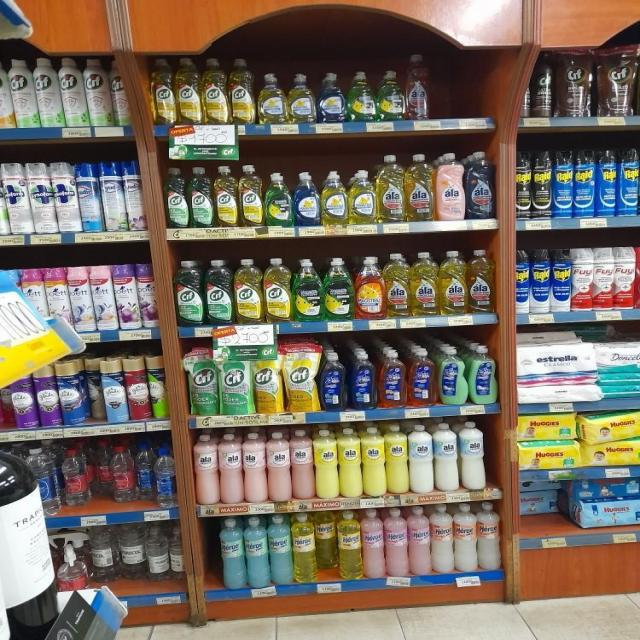ala_conc_amarillo: (406, 152, 434, 222), (376, 154, 404, 222), (411, 250, 438, 316), (468, 249, 495, 314), (440, 249, 466, 315), (385, 253, 409, 317)
ala_conc_azul: (466, 151, 496, 219)
ala_conc_rojo: (404, 53, 433, 120)
ala_crem_amarillo: (362, 426, 386, 498), (338, 427, 362, 498), (315, 429, 338, 499), (386, 424, 408, 494)
ala_crem_blanco: (459, 421, 487, 492), (434, 422, 459, 493), (409, 423, 433, 494)
ala_crem_rosado: (193, 432, 217, 506), (266, 430, 290, 502), (218, 433, 242, 504), (243, 431, 266, 504), (292, 429, 314, 500)
ala_ultra_rosa: (436, 151, 464, 221)
cif_conc_bot_amarilla: (264, 257, 292, 322), (235, 258, 262, 324), (229, 58, 256, 124), (202, 58, 228, 124), (150, 58, 175, 126), (176, 57, 201, 125), (239, 164, 263, 227), (214, 165, 238, 227)
cif_conc_botella_verde: (174, 260, 204, 326), (205, 258, 233, 324), (189, 166, 213, 228), (164, 167, 188, 228)
cif_conc_sachet_amarillo: (285, 342, 318, 412), (254, 344, 284, 414)
cif_conc_sachet_verde: (187, 346, 218, 416), (220, 347, 251, 415)
heroe: (219, 517, 244, 589), (292, 512, 316, 584), (338, 510, 362, 580), (477, 502, 501, 570), (408, 506, 431, 576), (385, 507, 408, 577), (246, 515, 268, 588), (270, 514, 292, 586), (431, 503, 453, 574), (362, 508, 384, 579), (454, 503, 476, 572), (316, 510, 337, 576)
magistral_con_amarillo: (348, 170, 376, 224), (258, 73, 286, 124), (321, 171, 347, 225), (288, 73, 316, 123)
magistral_con_azul: (294, 172, 320, 226), (317, 72, 345, 122)
magistral_con_rojo: (356, 255, 384, 319)
zorro: (438, 344, 467, 406), (468, 344, 497, 404), (408, 347, 435, 407), (349, 350, 376, 410), (378, 349, 405, 408), (320, 352, 346, 411)
